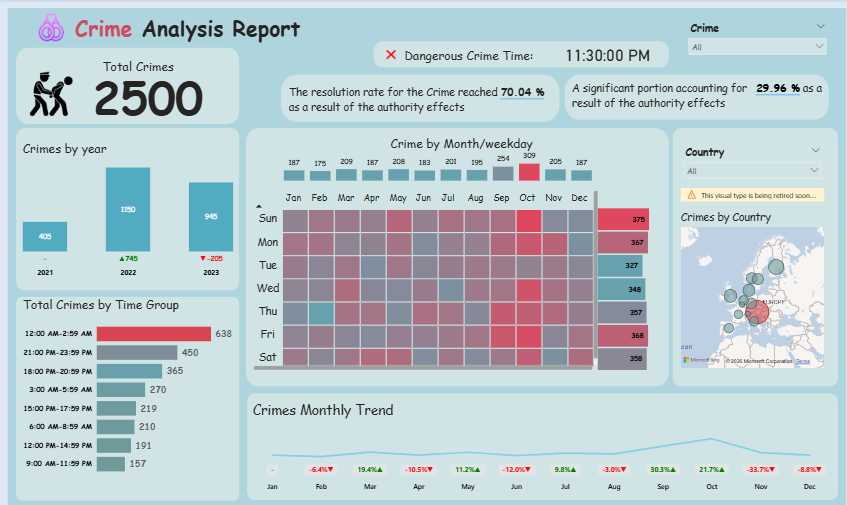

What the dashboard file says about the page in this screenshot:
{"tool":"powerbi","page":{"name":"Page 1","canvas":[1500,900],"ordinal":0},"visuals":[{"type":"pivotTable","fields":{"Rows":["Date Table.weekday"],"Columns":["Date Table.month"],"Values":["Measures (2).Total Crimes"]},"box":[445.2,333,621.9,329.5],"z":0,"group":"g1"},{"type":"card","fields":{"Values":["Measures (2).Total Crimes"]},"box":[147,125.8,233.9,86.8],"z":0},{"type":"clusteredColumnChart","fields":{"Category":["Date Table.month"],"Y":["Measures (2).Total Crimes"]},"box":[499.7,258.6,556.3,69.1],"z":1000,"group":"g1"},{"type":"columnChart","title":"Crimes by year","fields":{"Category":["Date Table.year"],"Y":["Measures (2).Blank measure(Year)","Measures (2).Total Crimes"]},"box":[37.2,248,382.7,255.1],"z":1000},{"type":"clusteredBarChart","fields":{"Y":["Measures (2).Total Crimes"],"Category":["Date Table.weekday"]},"box":[1056,357.8,125.8,304.7],"z":2000,"group":"g1"},{"type":"clusteredBarChart","fields":{"Category":["Crimes data.Time Group"],"Y":["Measures (2).Total Crimes"]},"box":[37.2,524.4,382.7,331.3],"z":2000},{"type":"lineChart","title":"Crimes Monthly Trend","fields":{"Category":["Date Table.month"],"Y":["Measures (2).Blank measure(month)","Measures (2).Total Crimes"]},"box":[444.7,710.4,1031.1,171.9],"z":3000},{"type":"group","id":"g1","title":"heat map combo ","box":[445.2,258.6,736.6,403.9],"z":4000},{"type":"map","title":"Crimes by Country","fields":{"Category":["Crimes data.Country"],"Size":["Measures (2).Total Crimes"]},"box":[1203,334.8,264,324.2],"z":5000},{"type":"slicer","fields":{"Values":["Crimes data.Country"]},"box":[1203,251.6,264,81.5],"z":6000},{"type":"textbox","box":[508.5,145.3,480.1,67.3],"z":7000},{"type":"textbox","box":[1009.8,138.2,465.9,67.3],"z":8000},{"type":"card","fields":{"Values":["Min(Crimes data.Crime Time)"]},"box":[974.4,72.6,207.3,51.4],"z":9000},{"type":"textbox","box":[706.9,79.7,267.5,46.1],"z":10000},{"type":"image","box":[682.1,83.3,24.8,30.1],"z":11000},{"type":"textbox","box":[682.1,235.6,411,46.1],"z":12000},{"type":"textbox","box":[171.9,99.2,184.3,51.4],"z":13000},{"type":"textbox","box":[118.7,19.5,490.7,63.8],"z":14000},{"type":"slicer","fields":{"Values":["Other data.Crime"]},"box":[1211.8,31.9,264,81.5],"z":14001}]}

Visuals, with their boxes in screenshot pixels (x1, y1, x2, y2), scaled from the page's 1500x900 canvas onto the 847x505 screenshot:
pivotTable - Date Table.weekday x Date Table.month: select_region(251, 187, 603, 372)
card - Measures (2).Total Crimes: select_region(83, 71, 215, 119)
clusteredColumnChart - Date Table.month x Measures (2).Total Crimes: select_region(282, 145, 596, 184)
"Crimes by year" columnChart: select_region(21, 139, 237, 282)
clusteredBarChart - Measures (2).Total Crimes x Date Table.weekday: select_region(596, 201, 667, 372)
clusteredBarChart - Crimes data.Time Group x Measures (2).Total Crimes: select_region(21, 294, 237, 480)
"Crimes Monthly Trend" lineChart: select_region(251, 399, 833, 495)
"heat map combo " group: select_region(251, 145, 667, 372)
"Crimes by Country" map: select_region(679, 188, 828, 370)
slicer - Crimes data.Country: select_region(679, 141, 828, 187)
textbox: select_region(287, 82, 558, 119)
textbox: select_region(570, 78, 833, 115)
card - Min(Crimes data.Crime Time): select_region(550, 41, 667, 70)
textbox: select_region(399, 45, 550, 71)
image: select_region(385, 47, 399, 64)
textbox: select_region(385, 132, 617, 158)
textbox: select_region(97, 56, 201, 85)
textbox: select_region(67, 11, 344, 47)
slicer - Other data.Crime: select_region(684, 18, 833, 64)
